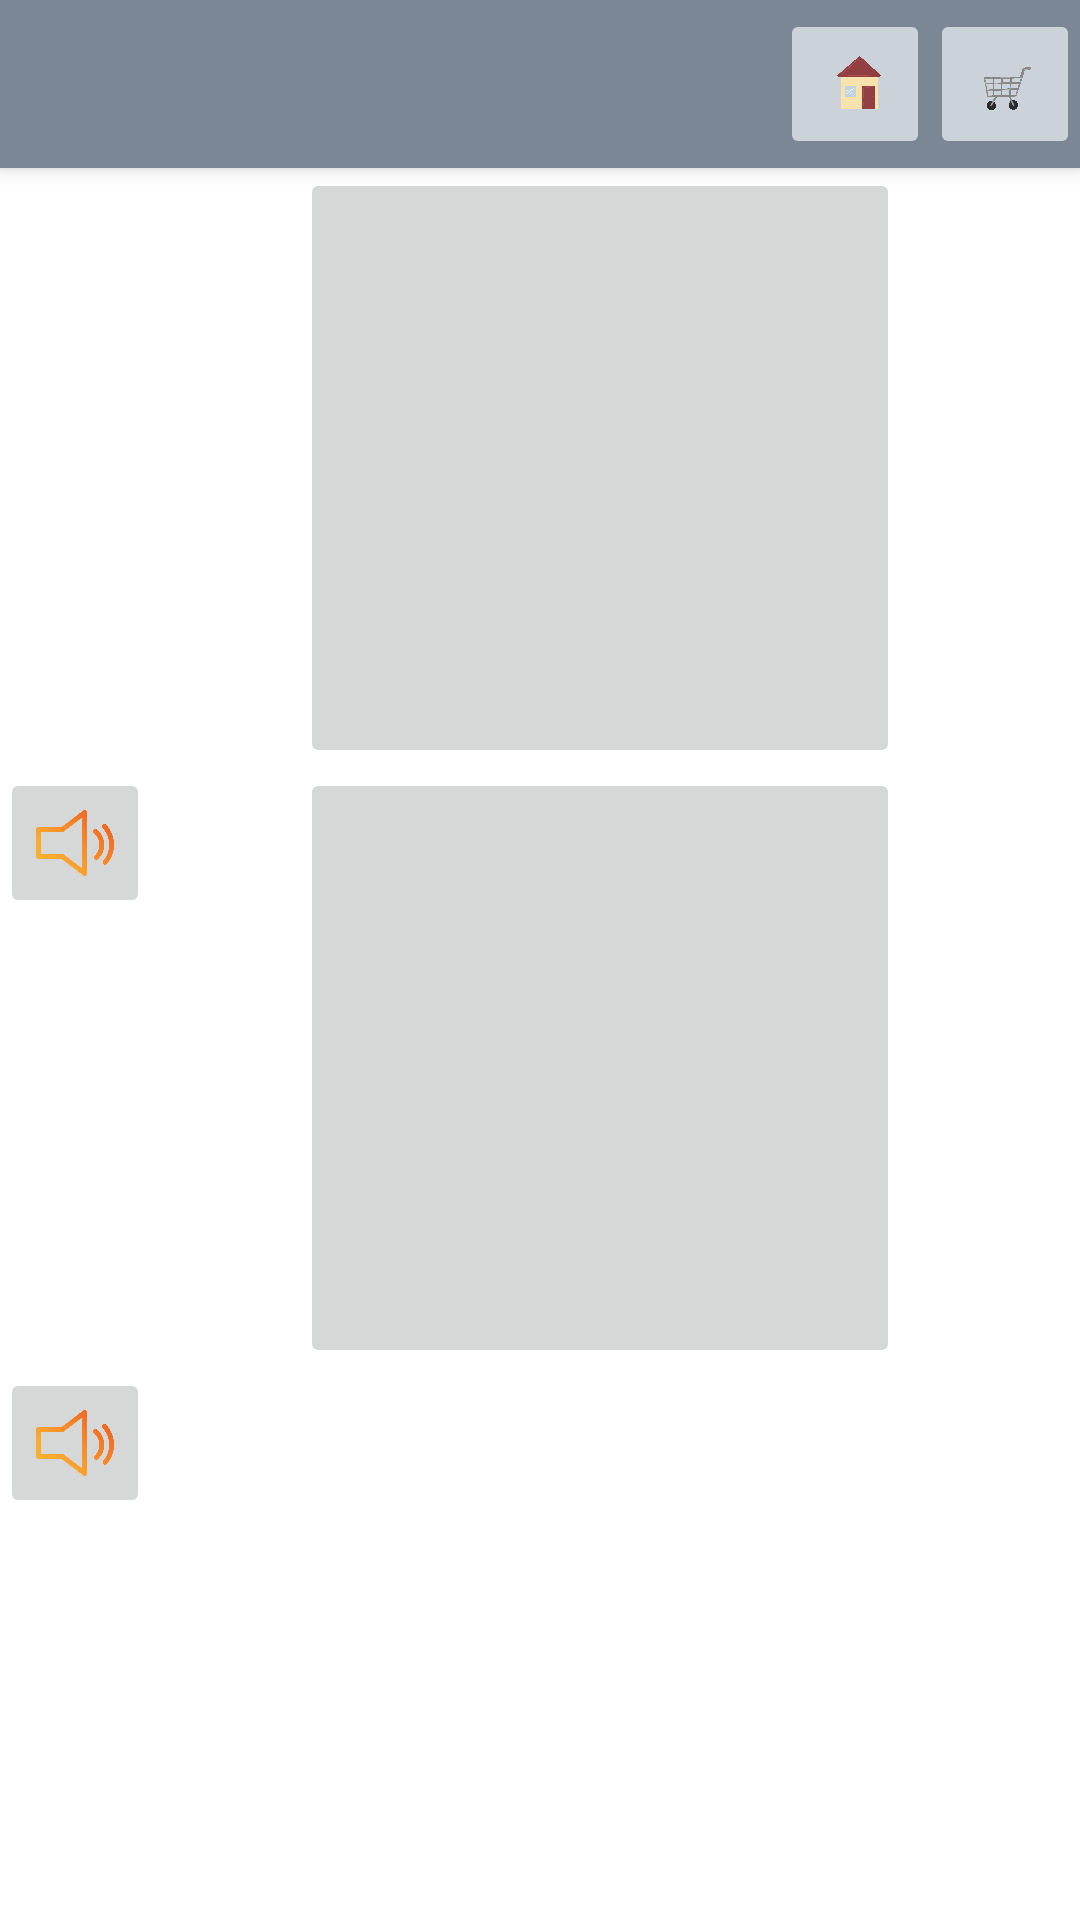

Where icons sit on this 1080x1920 app screen, as bbox=(x1, y1, x2, y2):
home: bbox=(792, 27, 918, 141)
klang: bbox=(12, 786, 138, 900), bbox=(12, 1386, 138, 1500)
warenkorb: bbox=(942, 27, 1068, 141)
